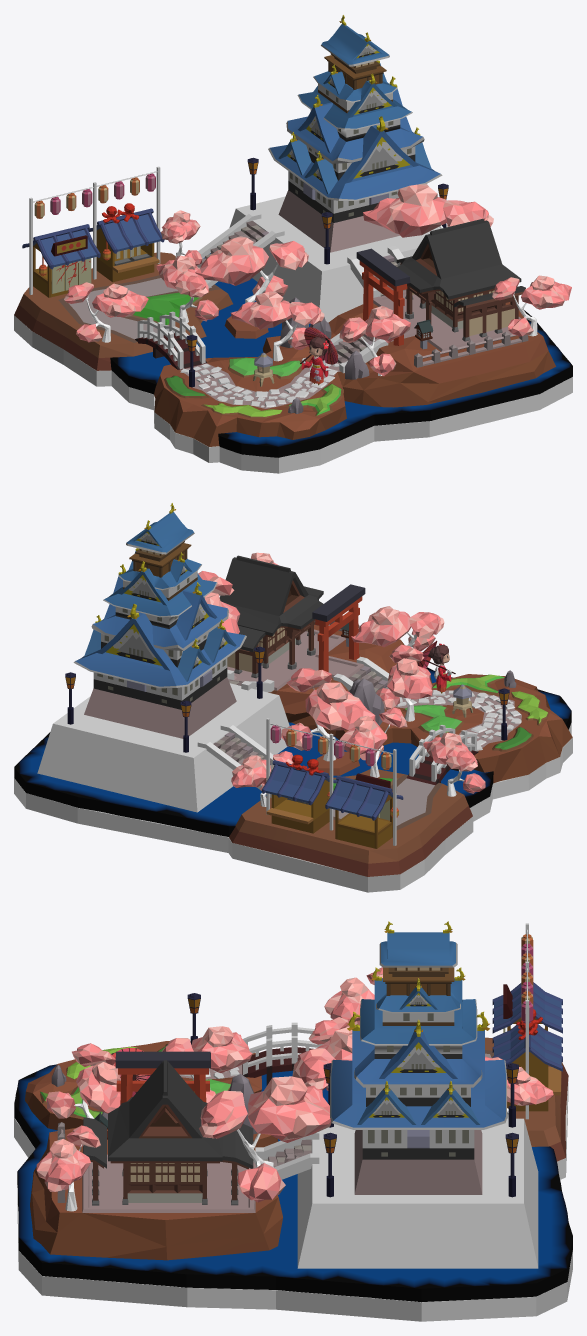
The model's file is 0019_miniOsaka.fbx.
3 views of the same model, one above another, from view 1: azimuth 30°, elevation 25°; view 2: azimuth 150°, elevation 25°; view 3: azimuth 270°, elevation 25° (orthographic). The views are drawn at different scales.
Parts seen in each view (by area): view 1: Plate_Shrine, [water], cherryBlossom_leaves_part1 (×7), Plate_Base, Plate_Garden, Plate_Market, osakaCastle_part3, Plate_OsakaCastle, Shrine_Roof, osakaCastle_part5, osakaCastle_part2, cherryBlossom_leaves_part2 (×4) (+17 smaller); view 2: Plate_OsakaCastle, Plate_Market, [water], Plate_Base, cherryBlossom_leaves_part1 (×7), Plate_Garden, osakaCastle_part3, osakaCastle_part5, Shrine_Roof, Plate_Shrine, osakaCastle_part2, osakaCastle_part1 (+18 smaller); view 3: Plate_OsakaCastle, [water], Plate_Shrine, cherryBlossom_leaves_part1 (×7), Plate_Base, osakaCastle_part3, osakaCastle_part5, Shrine_Roof, osakaCastle_part2, cherryBlossom_leaves_part2 (×5), osakaCastle_part1, Shrine_MainBody (+15 smaller).
Part boxes in pixels (bbox=[...]): Plate_Shrine: bbox=[328, 290, 555, 407]; [water]: bbox=[110, 253, 572, 457]; cherryBlossom_leaves_part1 (×7): bbox=[92, 184, 571, 342]; Plate_Base: bbox=[14, 315, 572, 473]; Plate_Garden: bbox=[154, 336, 346, 446]; Plate_Market: bbox=[14, 252, 232, 370]; osakaCastle_part3: bbox=[268, 89, 442, 201]; Plate_OsakaCastle: bbox=[229, 196, 447, 322]; Shrine_Roof: bbox=[397, 218, 521, 301]; osakaCastle_part5: bbox=[278, 171, 399, 252]; osakaCastle_part2: bbox=[297, 63, 412, 141]; cherryBlossom_leaves_part2 (×4): bbox=[175, 200, 493, 325]; Plate_OsakaCastle: bbox=[37, 683, 289, 812]; Plate_Market: bbox=[229, 769, 472, 876]; [water]: bbox=[14, 667, 571, 836]; Plate_Base: bbox=[14, 723, 572, 892]; cherryBlossom_leaves_part1 (×7): bbox=[205, 592, 468, 787]; Plate_Garden: bbox=[335, 674, 572, 783]; osakaCastle_part3: bbox=[73, 576, 246, 688]; osakaCastle_part5: bbox=[84, 658, 236, 738]; Shrine_Roof: bbox=[219, 555, 323, 637]; Plate_Shrine: bbox=[227, 625, 431, 736]; osakaCastle_part2: bbox=[103, 551, 217, 628]; osakaCastle_part1: bbox=[126, 512, 194, 577]; Plate_OsakaCastle: bbox=[297, 1118, 538, 1268]; [water]: bbox=[14, 1064, 572, 1302]; Plate_Shrine: bbox=[30, 1127, 282, 1260]; cherryBlossom_leaves_part1 (×7): bbox=[36, 977, 553, 1185]; Plate_Base: bbox=[14, 1082, 572, 1321]; osakaCastle_part3: bbox=[330, 1026, 506, 1129]; osakaCastle_part5: bbox=[354, 1130, 482, 1194]; Shrine_Roof: bbox=[108, 1060, 222, 1163]; osakaCastle_part2: bbox=[360, 978, 477, 1058]; cherryBlossom_leaves_part2 (×5): bbox=[66, 1017, 348, 1147]; osakaCastle_part1: bbox=[379, 932, 457, 995]; Shrine_MainBody: bbox=[127, 1163, 202, 1202].
Size of the model in its own units: 25.72 by 16.23 by 24.51.
